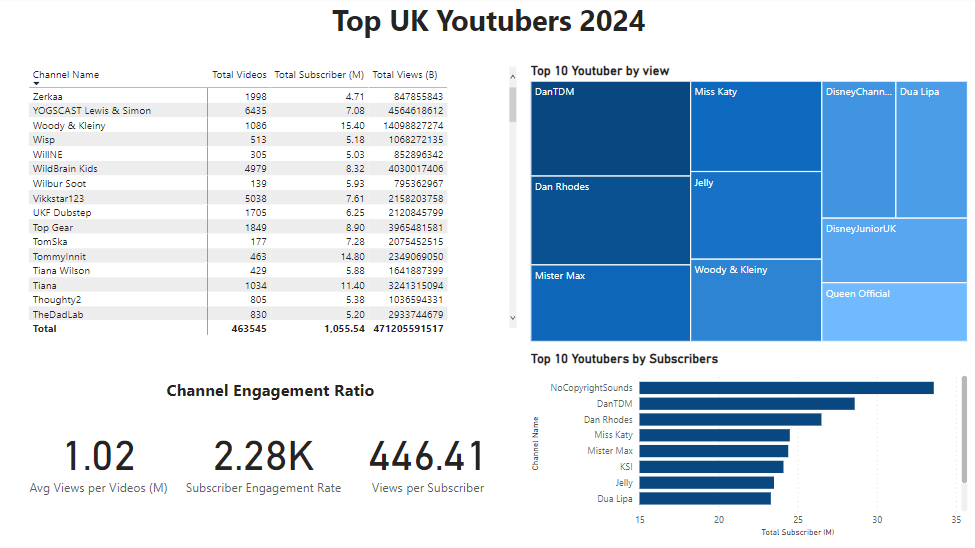

The page's visual inventory and layout, read from the dashboard file:
{"tool":"powerbi","page":{"name":"Page 1","canvas":[1280,720],"ordinal":0},"visuals":[{"type":"textbox","box":[10,0,280,280],"z":0},{"type":"textbox","box":[421.1,0,437.8,71.4],"z":1000},{"type":"pivotTable","fields":{"Rows":["view_uk_youtubers_2024.channel_name"],"Values":["view_uk_youtubers_2024.Total Videos","view_uk_youtubers_2024.Total Subscriber (M)","view_uk_youtubers_2024.Total Views (B)"]},"box":[34.5,85.7,647.1,360.4],"z":2000},{"type":"treemap","title":"Top 10 Youtuber by view","fields":{"Group":["view_uk_youtubers_2024.channel_name"],"Values":["view_uk_youtubers_2024.Total Views (B)"]},"box":[690,85.7,580.5,368.8],"z":3000},{"type":"card","fields":{"Values":["view_uk_youtubers_2024.Avg Views per Videos (M)"]},"box":[28.6,542.5,202.2,120.1],"z":4000},{"type":"card","fields":{"Values":["view_uk_youtubers_2024.Subscriber Engagement Rate"]},"box":[230.8,542.5,228.4,120.1],"z":5000},{"type":"card","fields":{"Values":["view_uk_youtubers_2024.Views per Subscriber"]},"box":[459.2,542.5,203.4,120.1],"z":6000},{"type":"clusteredBarChart","title":"Top 10 Youtubers by Subscribers","fields":{"Category":["view_uk_youtubers_2024.channel_name"],"Y":["view_uk_youtubers_2024.Total Subscriber (M)"]},"box":[690,462.8,580.5,247.4],"z":6001},{"type":"textbox","box":[195.1,493.7,325.9,48.8],"z":6002}]}

Visuals, with their boxes in screenshot pixels (x1, y1, x2, y2), scaled from the page's 1280x720 canvas onto the 975x548 screenshot:
textbox: box=[8, 0, 221, 213]
textbox: box=[321, 0, 654, 54]
pivotTable - view_uk_youtubers_2024.channel_name x view_uk_youtubers_2024.Total Videos: box=[26, 65, 519, 340]
"Top 10 Youtuber by view" treemap: box=[526, 65, 968, 346]
card - view_uk_youtubers_2024.Avg Views per Videos (M): box=[22, 413, 176, 504]
card - view_uk_youtubers_2024.Subscriber Engagement Rate: box=[176, 413, 350, 504]
card - view_uk_youtubers_2024.Views per Subscriber: box=[350, 413, 505, 504]
"Top 10 Youtubers by Subscribers" clusteredBarChart: box=[526, 352, 968, 541]
textbox: box=[149, 376, 397, 413]
